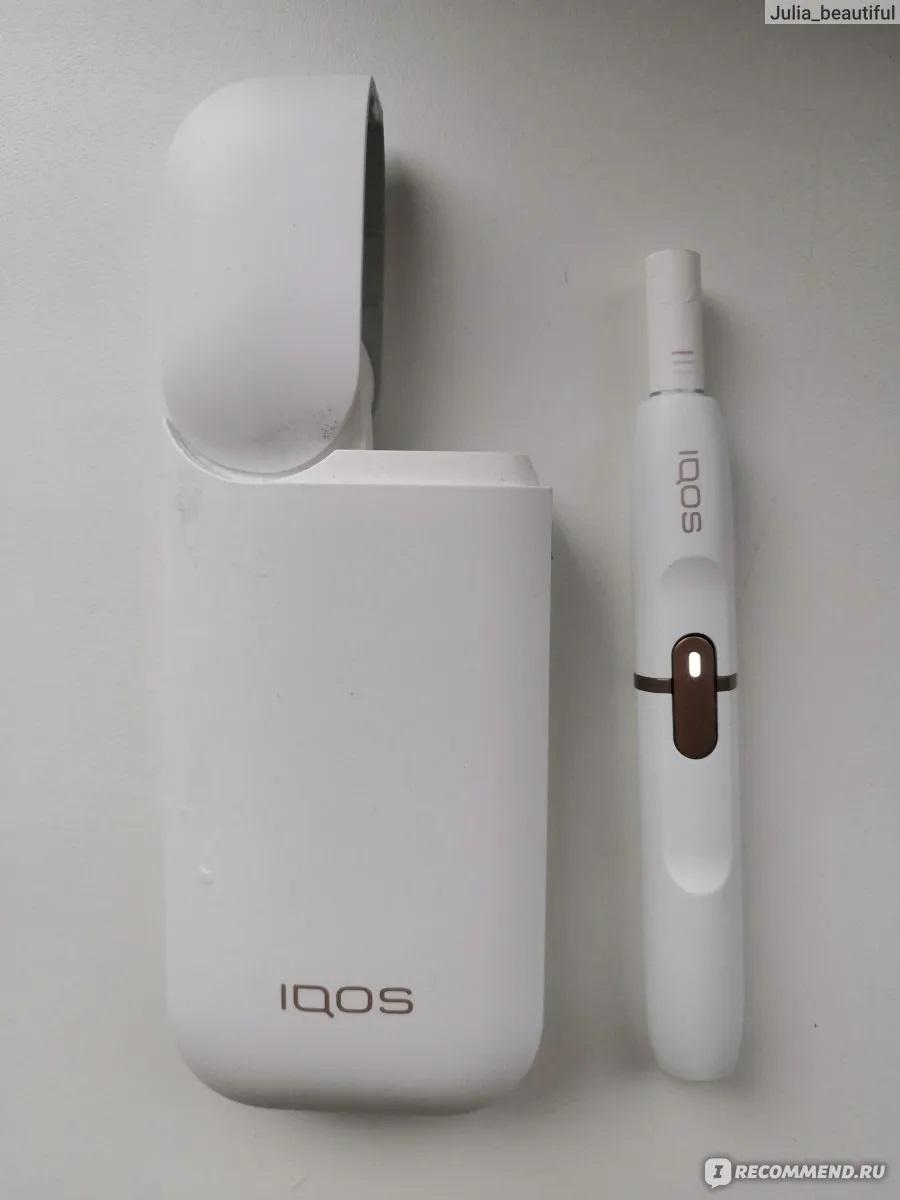iqos: (633, 250, 744, 1080)
